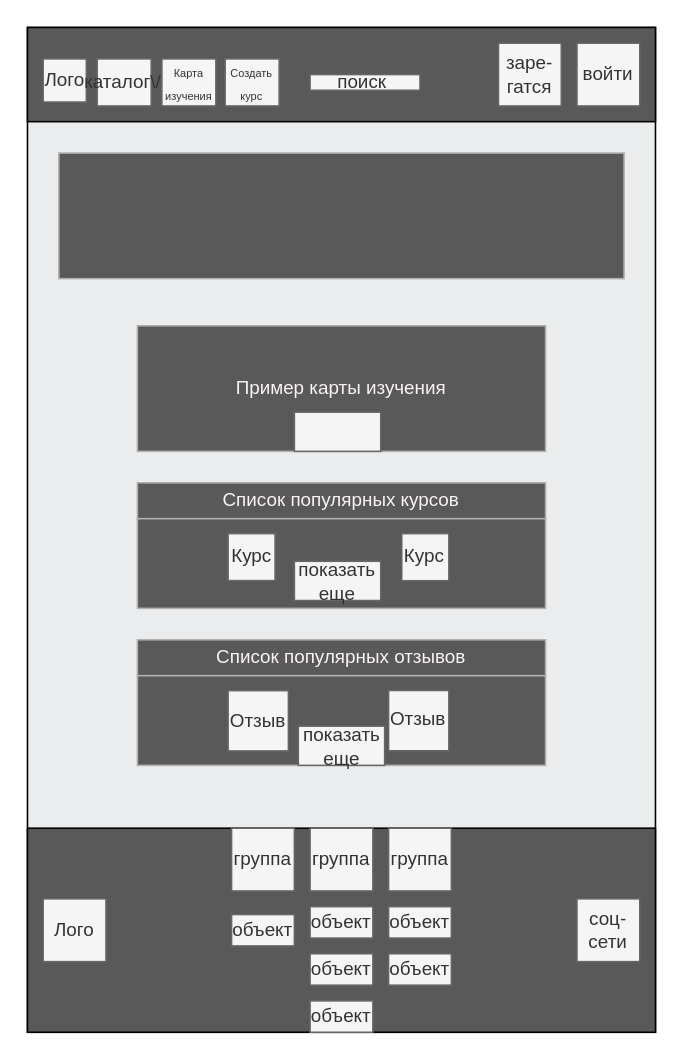
The diagram is 683 pixels wide and 1060 high, and some of its shapes have lost their labels. The centre of each missing label's shape, as x and y in pixels:
"Приветствие краткое описание" goes at [340,215].
"узнать подробнее" goes at [337,431].
